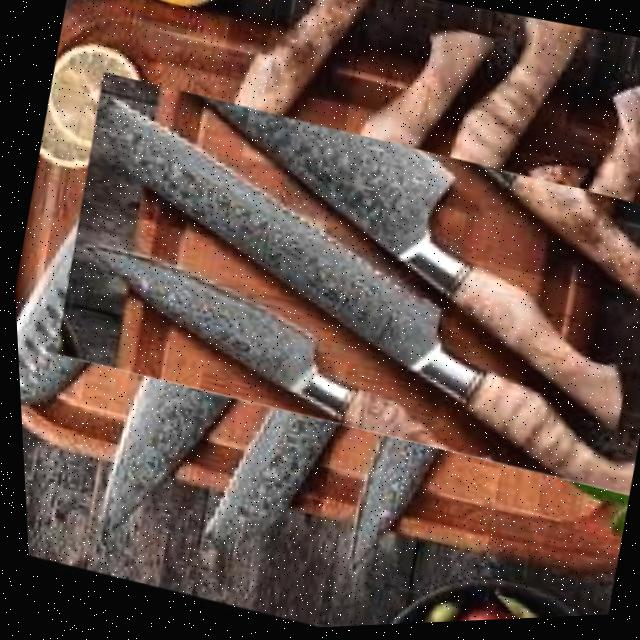knife: (27, 74, 640, 519), (0, 0, 405, 475), (151, 85, 640, 451)
